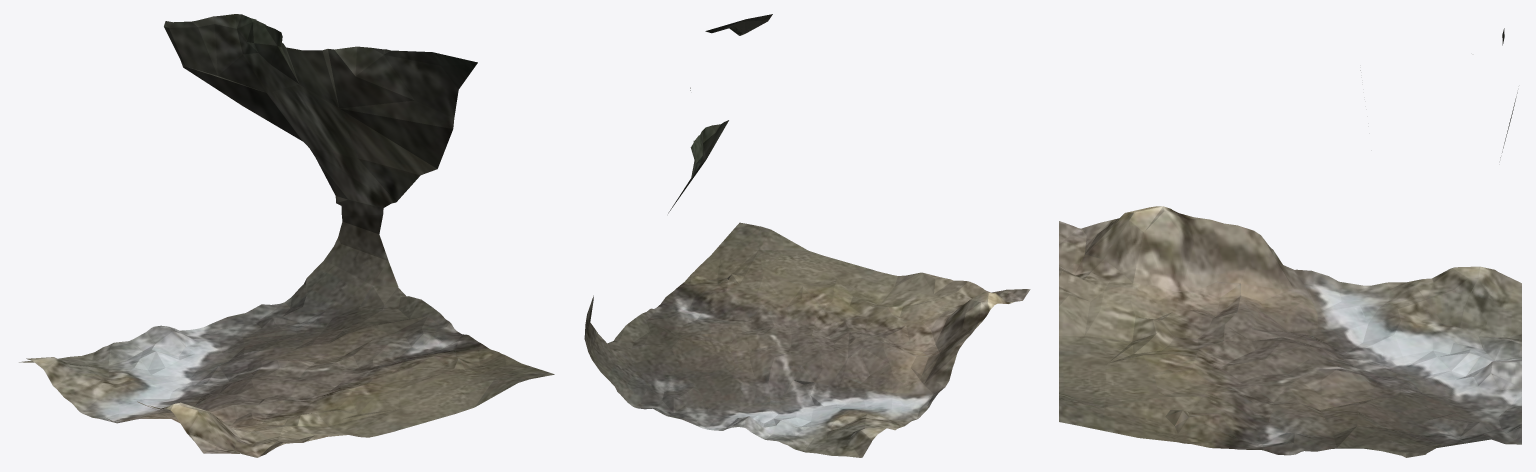
3 views of the same model, side by side, from view 1: azimuth 30°, elevation 25°; view 2: azimuth 150°, elevation 25°; view 3: azimuth 270°, elevation 25° (orthographic). The views are drawn at different scales.
Bounding box in the file's own units: 5.9 × 5.21 × 5.9.
Materials: 3 (3 with a texture image).
